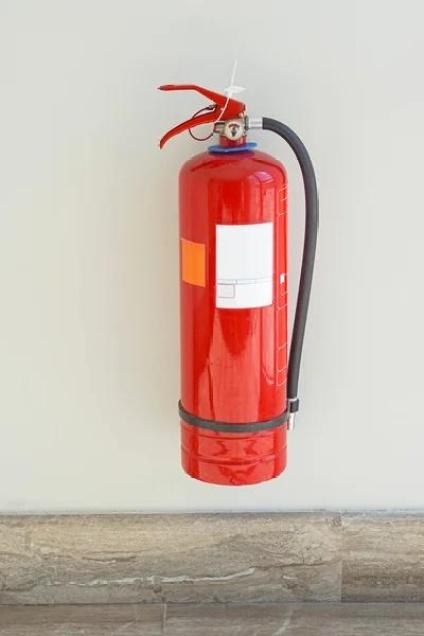APAR: (156, 82, 290, 486)
